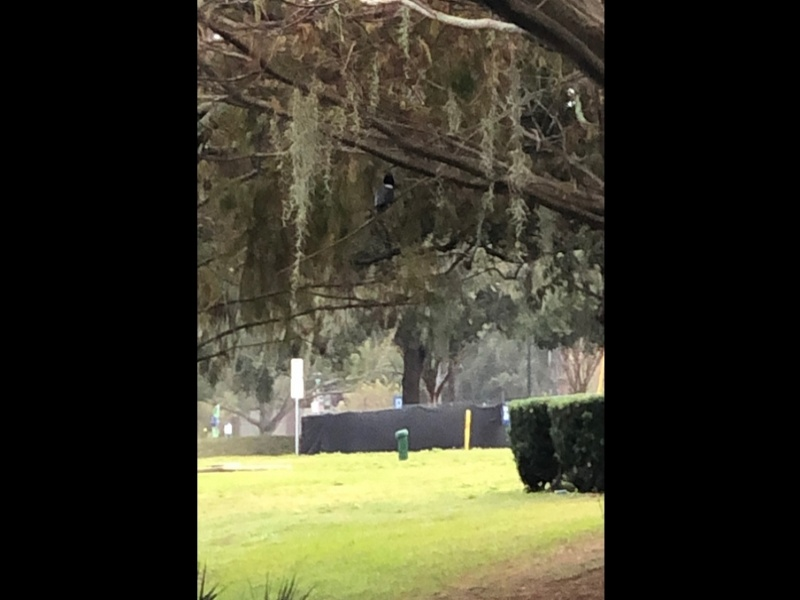kingfisher: (371, 169, 400, 215)
